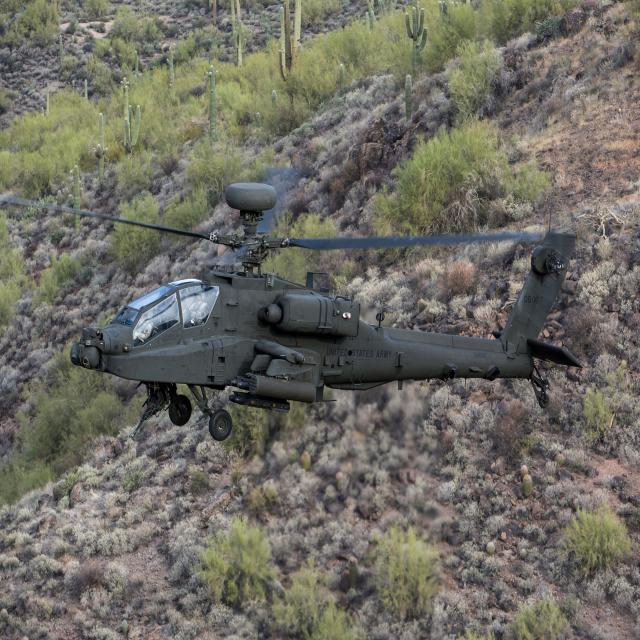Apache: (8, 169, 584, 439)
